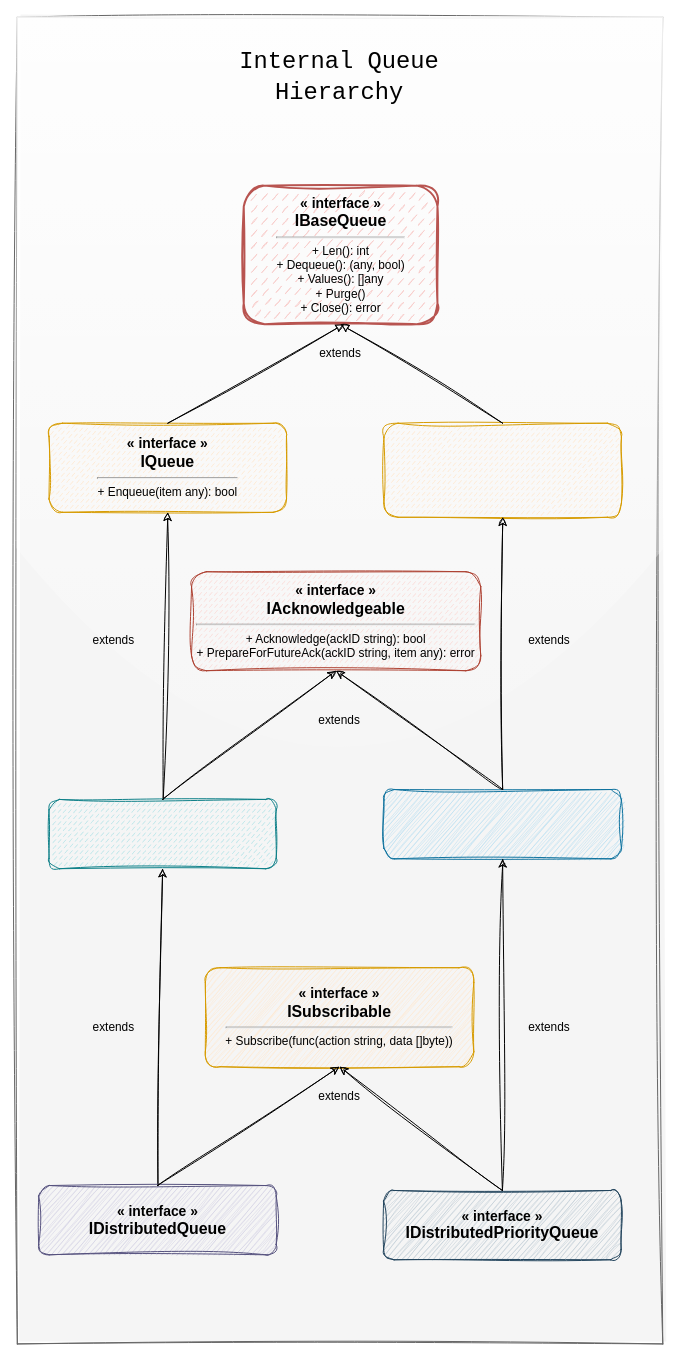
This 680x1361 diagram has some shape labels left out. The centre of each missing label's shape, as x and y in pixels:
« interface » IPersistentPriorityQueue: (x=502, y=824)
« interface » IPersistentQueue: (x=162, y=833)
« interface » IPriorityQueue + Enqueue(item any, priority int): bool: (x=502, y=469)
